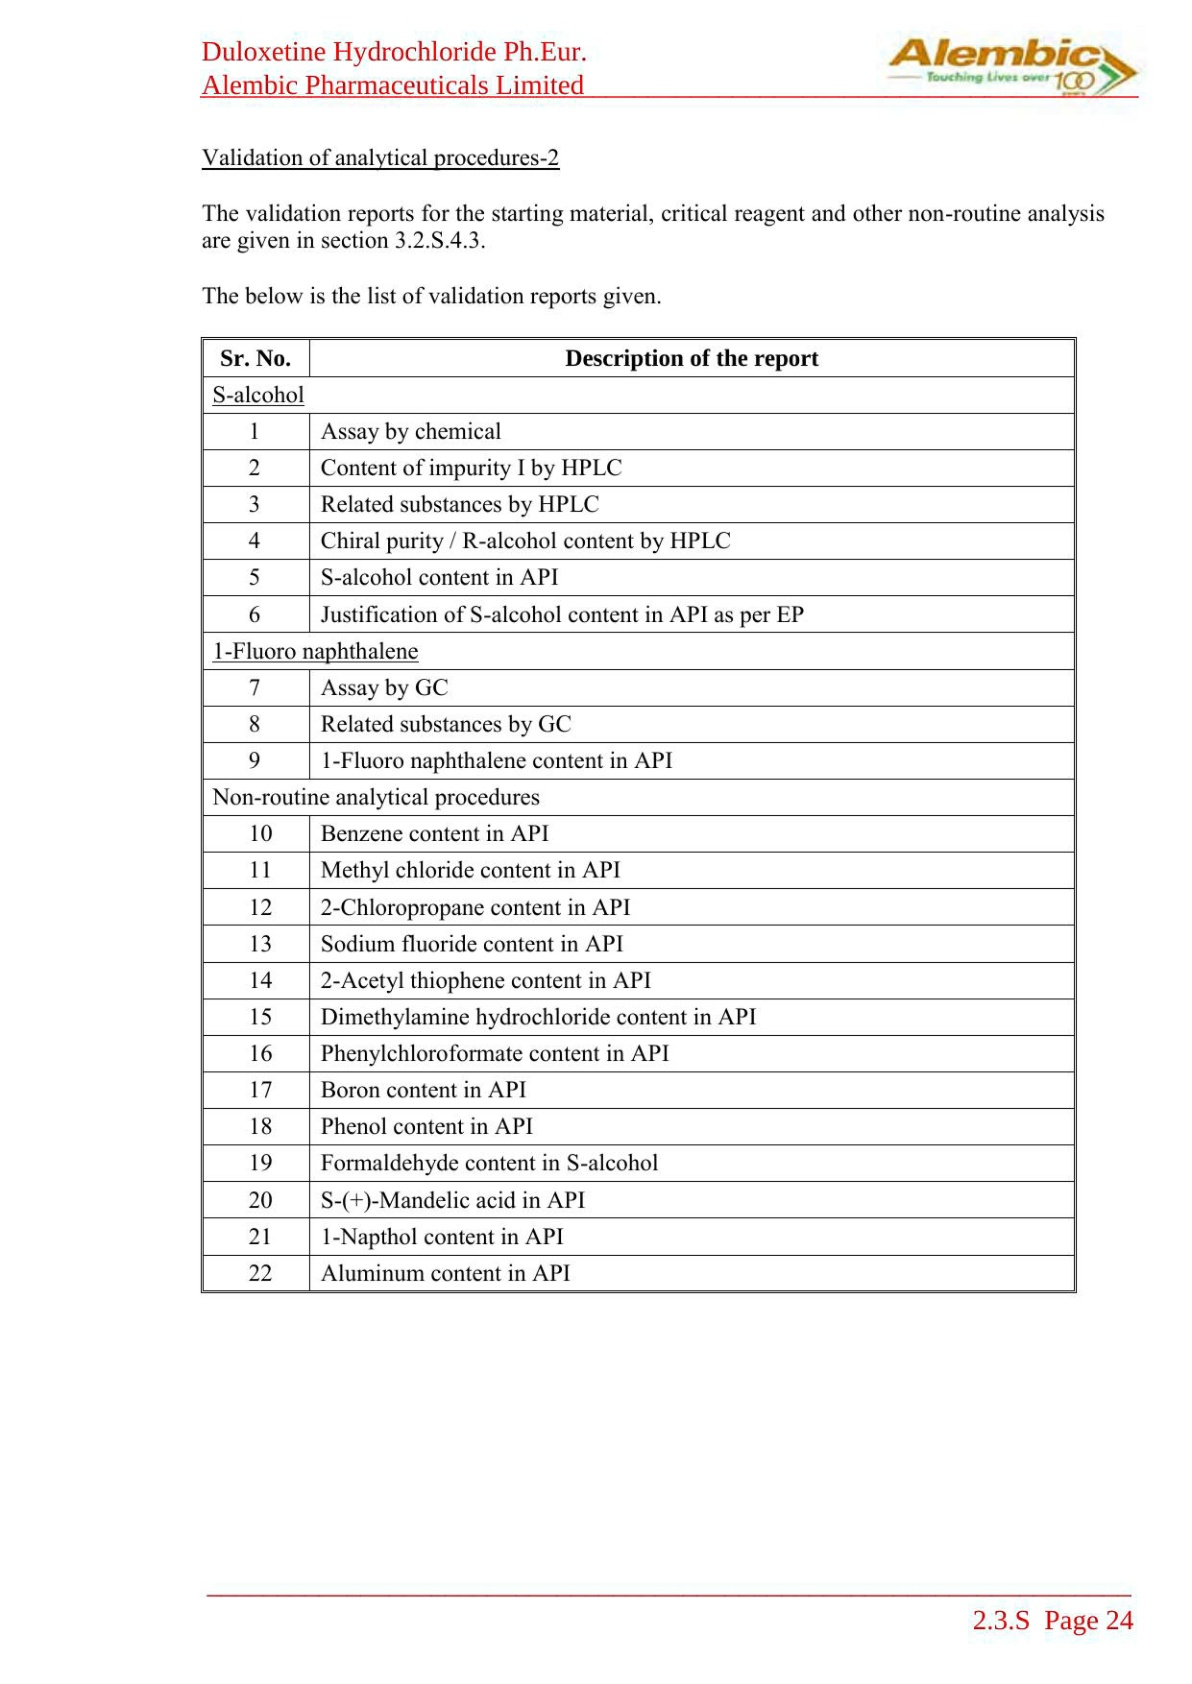merged_cells: (200, 337, 1078, 1295)
